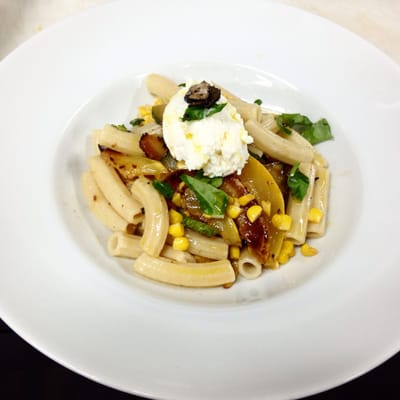curry: (275, 113, 334, 146)
